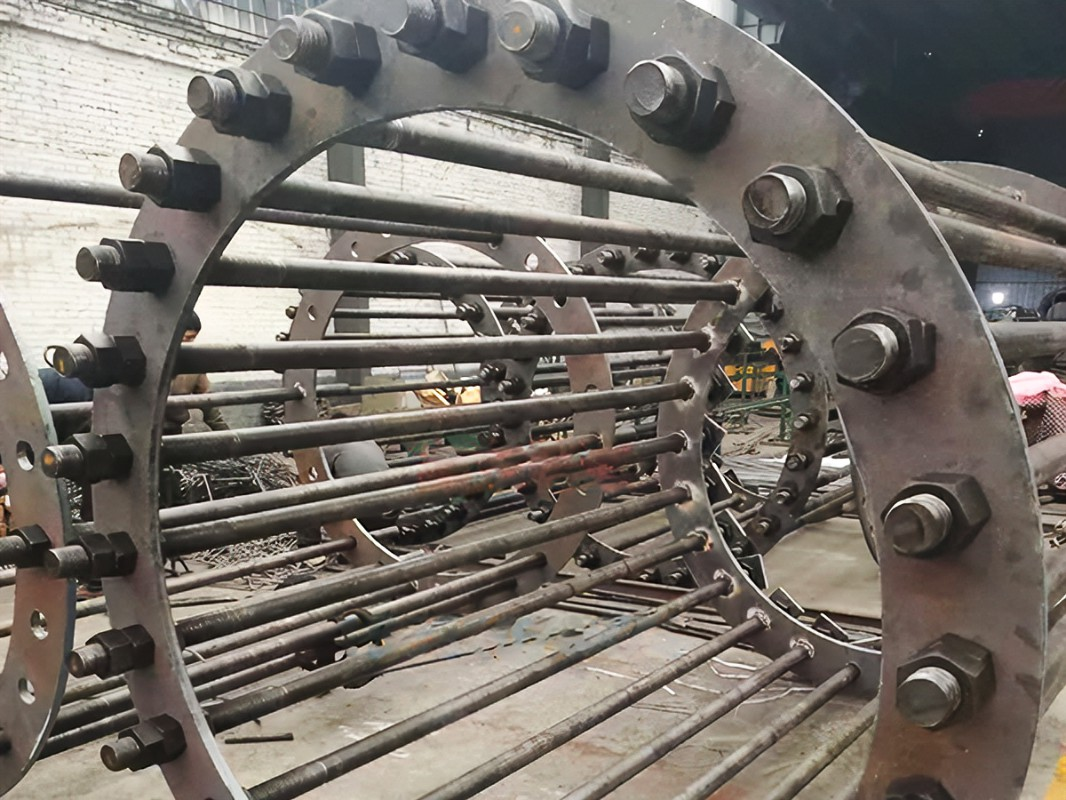bolt_b: (875, 469, 989, 561), (620, 47, 720, 150), (829, 301, 927, 401), (746, 157, 835, 257), (893, 643, 988, 734), (493, 2, 593, 82), (279, 5, 361, 90), (191, 59, 268, 138), (134, 140, 200, 214), (90, 233, 147, 295), (65, 328, 120, 390), (56, 428, 110, 490), (61, 529, 113, 584), (82, 629, 134, 682), (114, 720, 166, 773), (4, 523, 52, 569)
vague: (590, 241, 625, 274), (780, 445, 810, 475), (451, 300, 481, 328), (785, 365, 814, 392), (776, 327, 802, 357), (752, 514, 782, 540), (772, 482, 799, 510), (793, 406, 819, 435), (476, 360, 502, 385), (501, 371, 526, 397), (434, 500, 461, 523)
